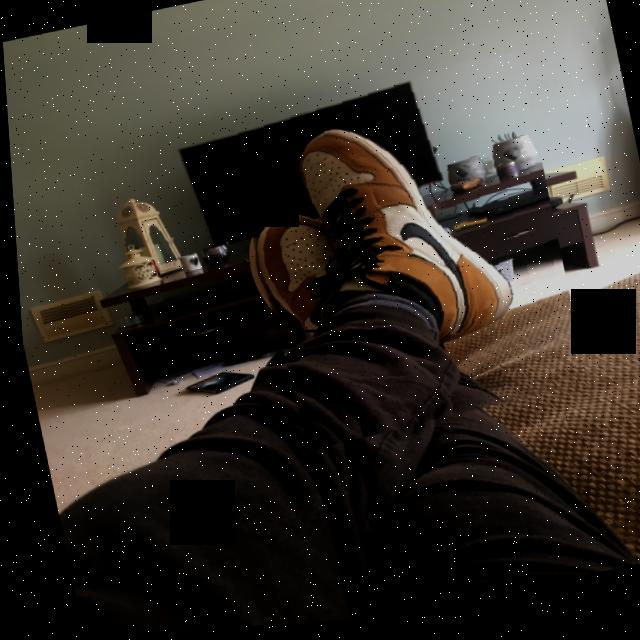shoe: (215, 56, 586, 461)
